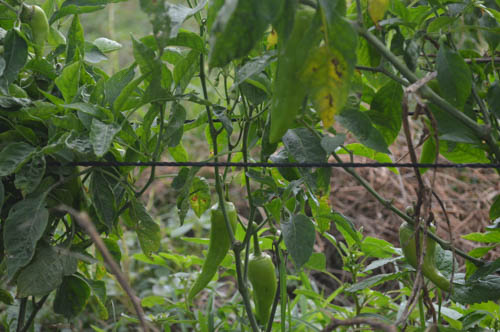ChiliPepper: (270, 8, 316, 146), (191, 203, 234, 297), (400, 225, 449, 289), (248, 255, 274, 321)
